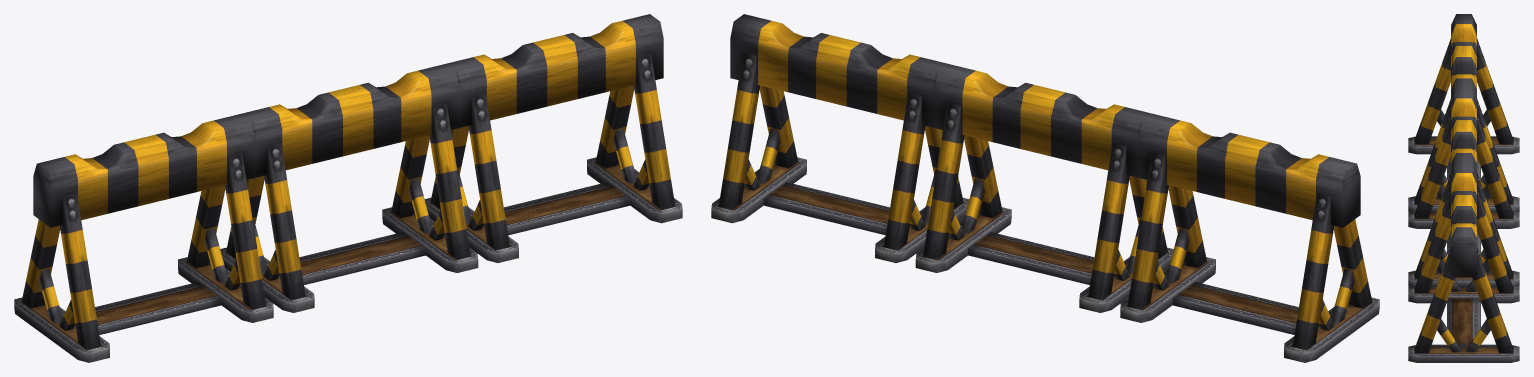
File: a_SWAbari03.glb
3 views of the same model, side by side, from view 1: azimuth 30°, elevation 25°; view 2: azimuth 150°, elevation 25°; view 3: azimuth 270°, elevation 25° (orthographic). The views are drawn at different scales.
Parts seen in each view (by area): view 1: a_SWAbari03; view 2: a_SWAbari03; view 3: a_SWAbari03.
Boxes of the visible parts, bbox=[...] form: a_SWAbari03: bbox=[14, 14, 682, 362]; a_SWAbari03: bbox=[711, 14, 1379, 362]; a_SWAbari03: bbox=[1408, 14, 1519, 362].
Size of the model in its own units: 3.01 by 0.8047 by 0.6346.
1 material, 1 textured.
